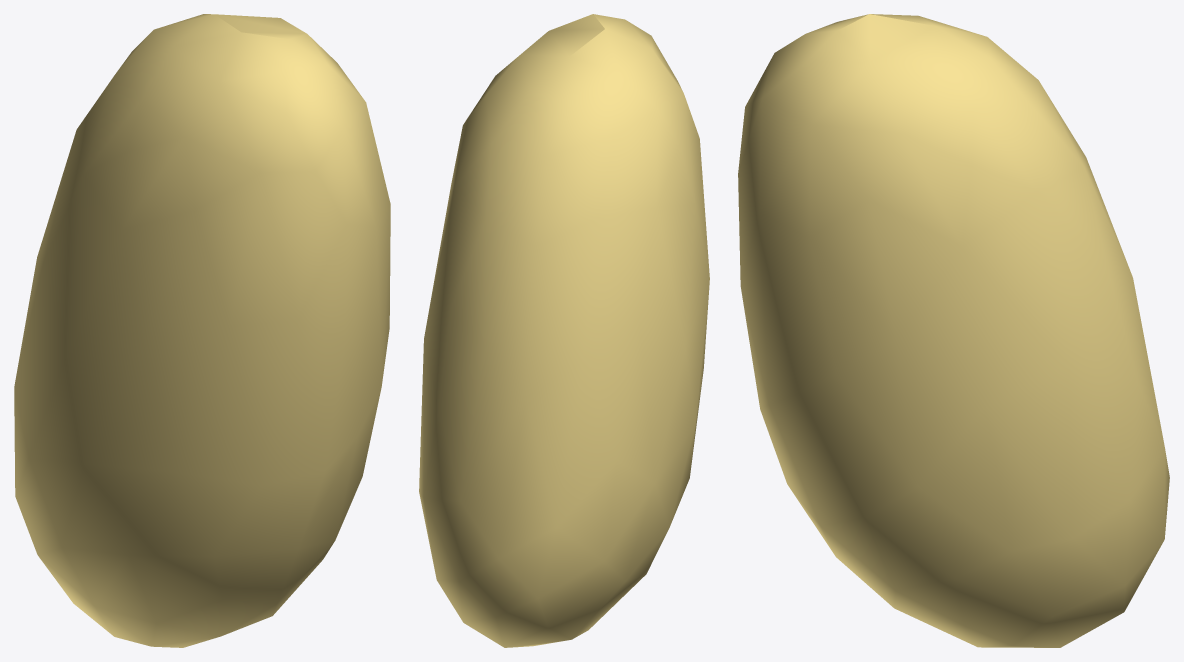
File: fma73580_mm3513m.glb
3 renders of one model, left to right at view 1: azimuth 30°, elevation 25°; view 2: azimuth 150°, elevation 25°; view 3: azimuth 270°, elevation 25°, orthographic. The views are drawn at different scales.
Visible parts, largest first — view 1: FMA73580_MM3513M; view 2: FMA73580_MM3513M; view 3: FMA73580_MM3513M.
Part boxes in pixels (box(x1,y1,x2,y2)): FMA73580_MM3513M: box(14, 14, 390, 647); FMA73580_MM3513M: box(419, 14, 709, 647); FMA73580_MM3513M: box(738, 14, 1169, 647).
Bounding box in the file's own units: 0.00129 × 0.0029 × 0.00181.
